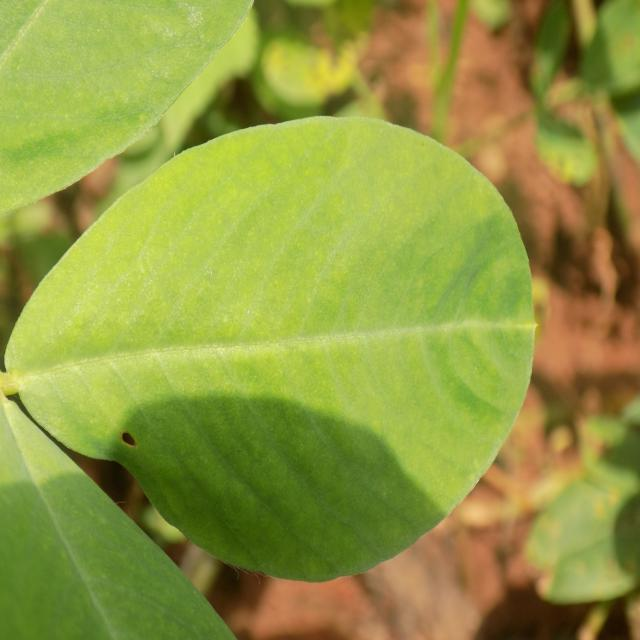Ground nut_healthy: (4, 111, 537, 576)
